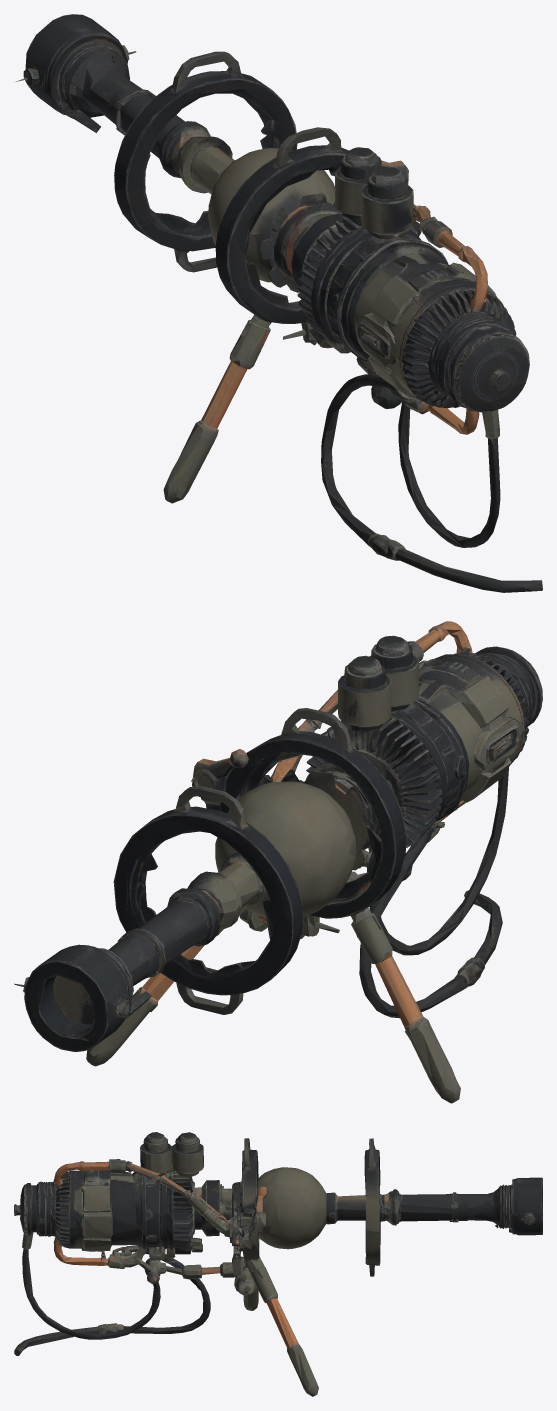
The model's file is tower_graviton.glb.
The picture shows the model from 3 angles, top to bottom: view 1: azimuth 30°, elevation 25°; view 2: azimuth 150°, elevation 25°; view 3: azimuth 270°, elevation 25°; orthographic projection. The views are drawn at different scales.
Visible parts, largest first — view 1: tower_graviton; view 2: tower_graviton; view 3: tower_graviton.
Boxes of the visible parts, x1,y1,x2,y2 form: tower_graviton: [16, 14, 542, 592]; tower_graviton: [14, 621, 542, 1103]; tower_graviton: [14, 1132, 542, 1396].
Size of the model in its own units: 0.7344 by 0.812 by 1.8.
1 material, 1 textured.
